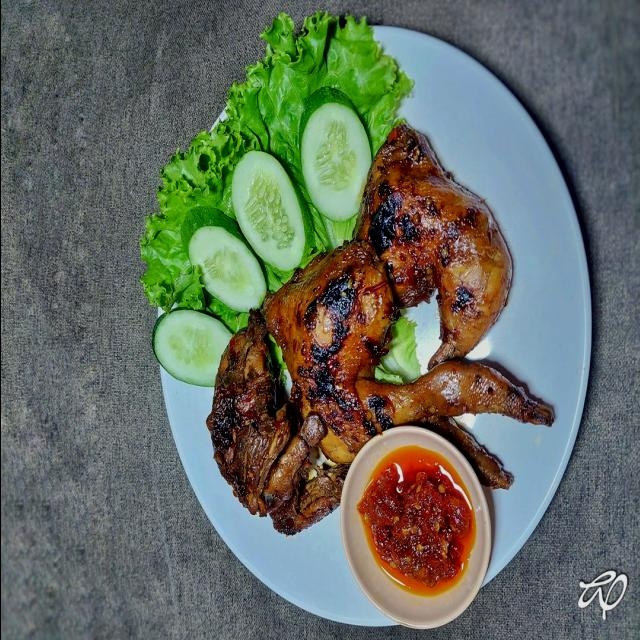ayam bakar: (263, 231, 552, 490), (350, 121, 516, 373), (208, 306, 343, 541)
